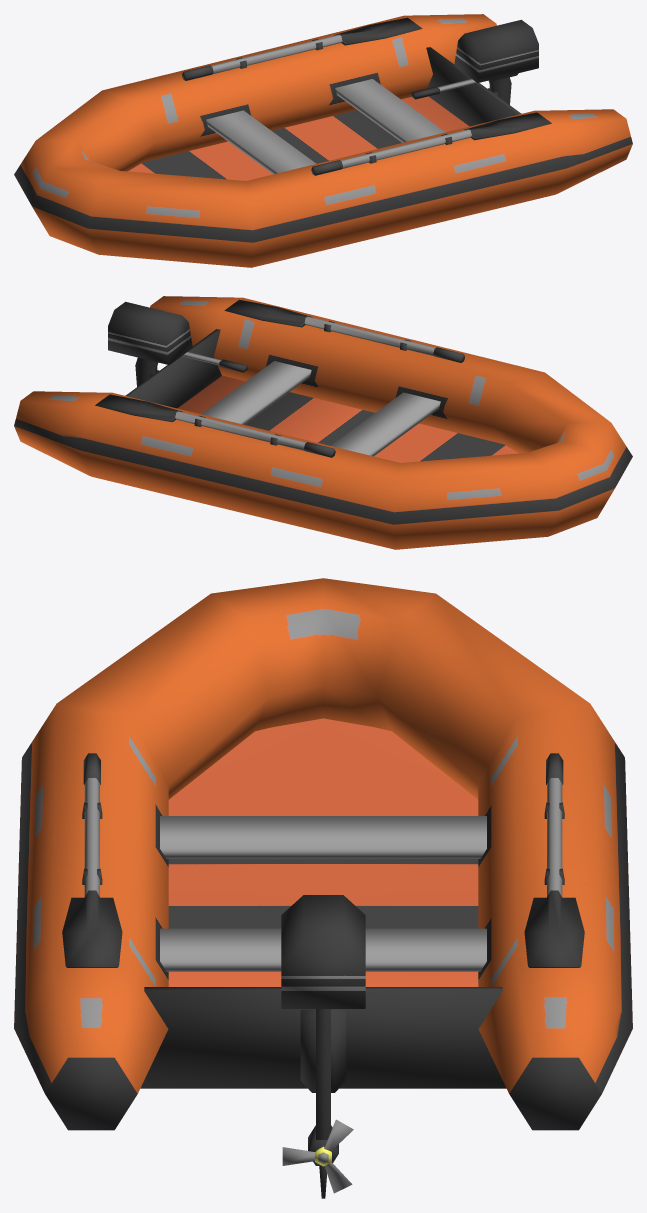
File:  RescueBoat .fbx
3 views of the same model, one above another, from view 1: azimuth 30°, elevation 25°; view 2: azimuth 150°, elevation 25°; view 3: azimuth 270°, elevation 25° (orthographic). The views are drawn at different scales.
Visible parts, largest first — view 1: RescueBoat; view 2: RescueBoat; view 3: RescueBoat.
Boxes of the visible parts, <box> form: RescueBoat: <box>14,14,632,267</box>; RescueBoat: <box>14,296,632,549</box>; RescueBoat: <box>14,578,632,1198</box>.
Bounding box in the file's own units: 1394 × 385 × 800.
